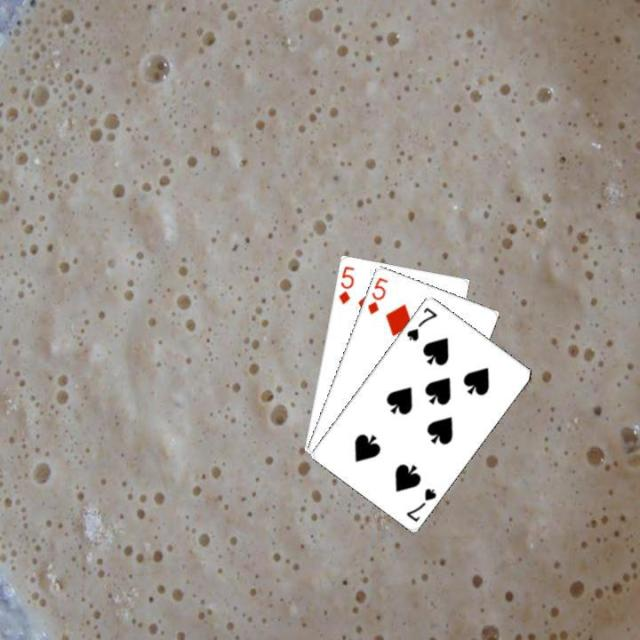5D: (364, 273, 389, 315), (334, 262, 356, 306)
7S: (403, 302, 439, 343), (402, 484, 438, 524)
